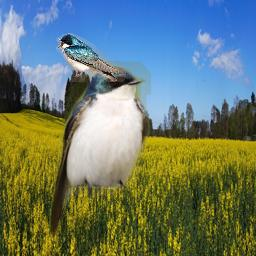Swallow: (49, 60, 151, 238), (56, 33, 126, 82)
